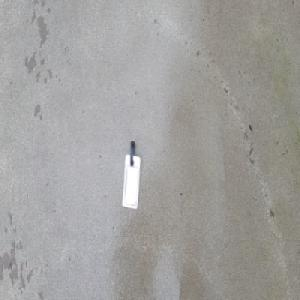LuggageTag: (120, 139, 141, 210)
